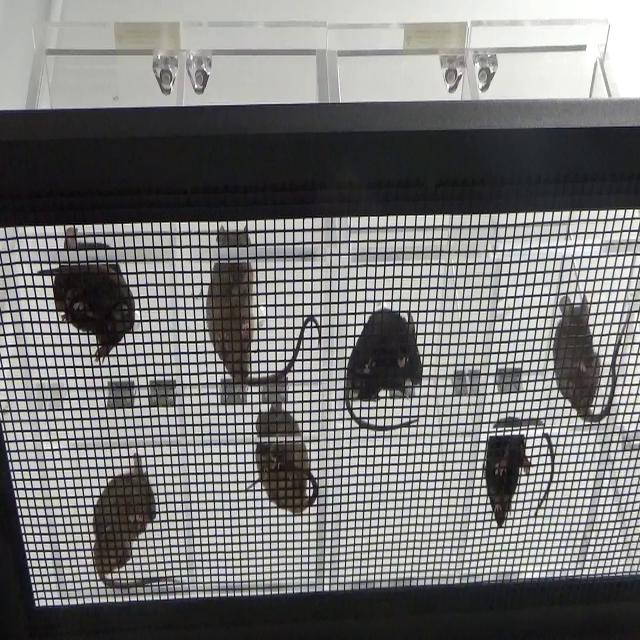scratch: (551, 285, 634, 432)
